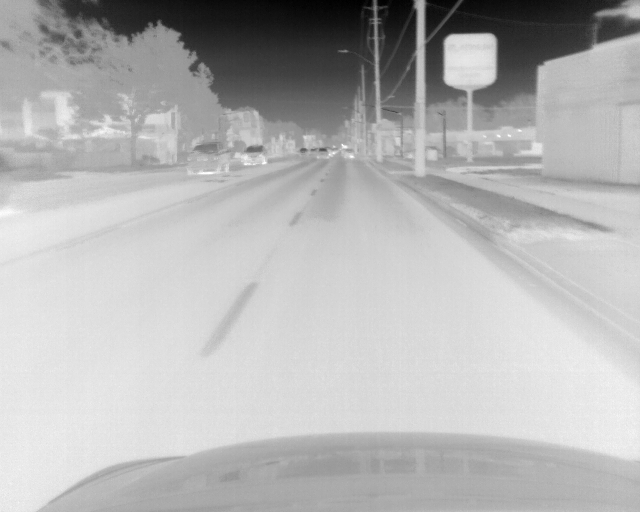car: (186, 141, 231, 176), (241, 146, 269, 165), (342, 147, 354, 158), (317, 148, 329, 159), (299, 147, 308, 156), (330, 147, 337, 157), (309, 148, 317, 156)
